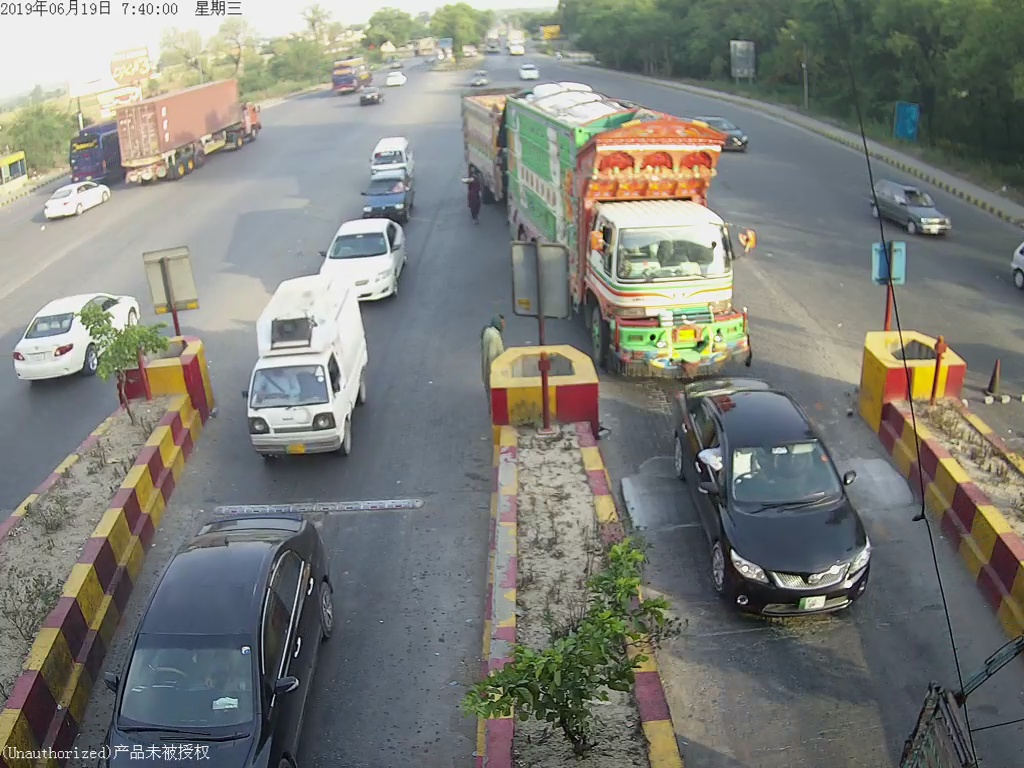Cat-1: (668, 383, 873, 620), (241, 279, 378, 461), (353, 183, 416, 218)
Cat-4: (490, 80, 747, 372)
